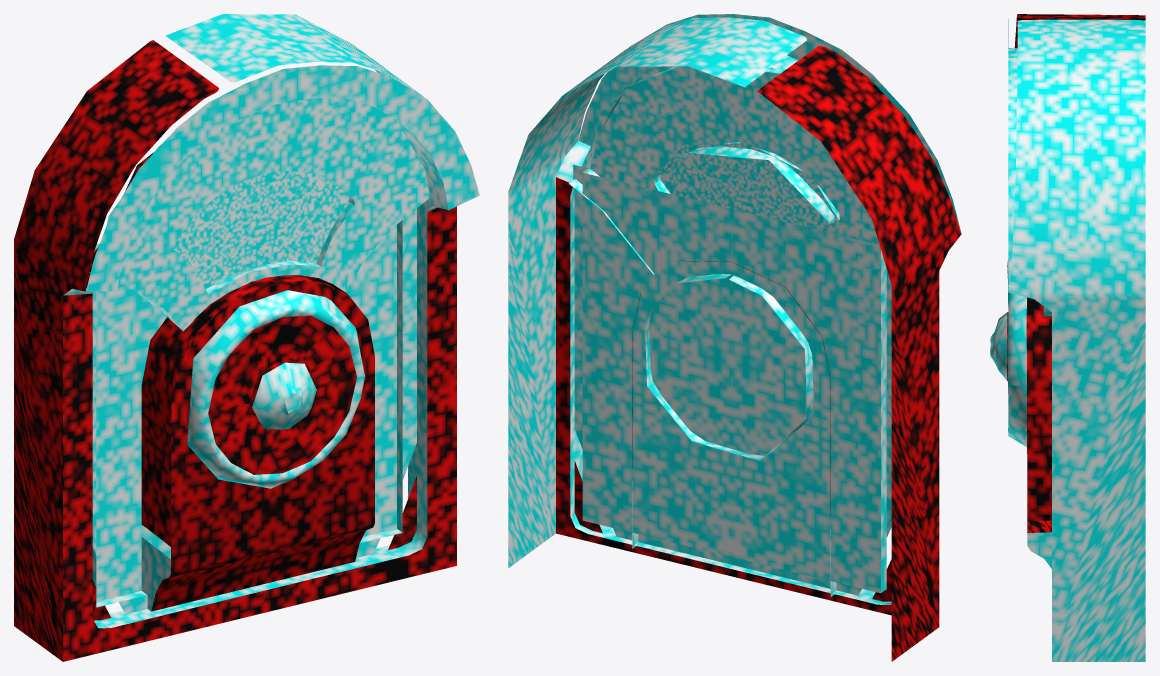
The model's file is SM_Lift_Controller_HJS.fbx.
3 renders of one model, left to right at view 1: azimuth 30°, elevation 25°; view 2: azimuth 150°, elevation 25°; view 3: azimuth 270°, elevation 25°, orthographic. The views are drawn at different scales.
Visible parts, largest first — view 1: SM_Lift_Controller_HJS; view 2: SM_Lift_Controller_HJS; view 3: SM_Lift_Controller_HJS.
Boxes of the visible parts, left/top/right/bottom form: SM_Lift_Controller_HJS: left=14, top=14, right=479, bottom=661; SM_Lift_Controller_HJS: left=508, top=14, right=961, bottom=661; SM_Lift_Controller_HJS: left=990, top=14, right=1145, bottom=661.
Size of the model in its own units: 32.66 by 44.41 by 11.65.
